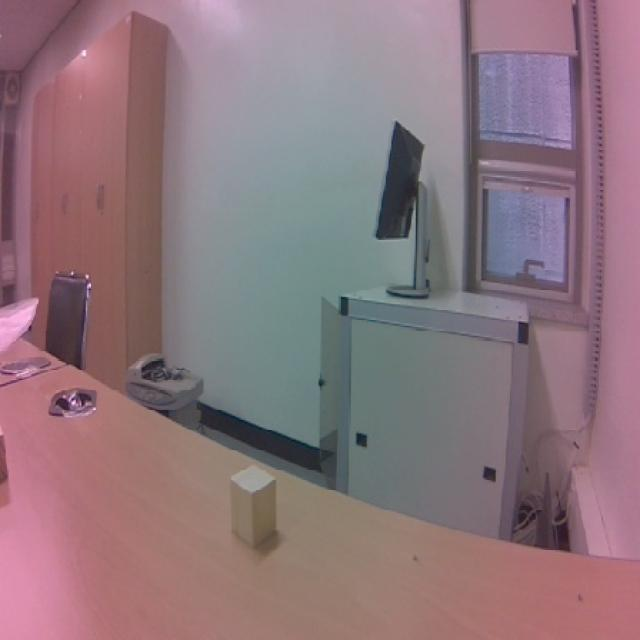obstacle: (224, 458, 288, 555)
